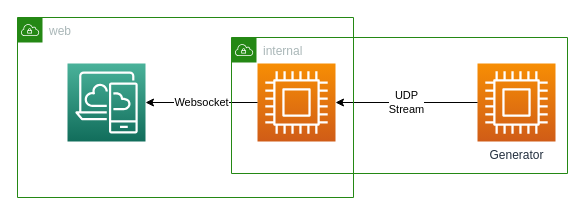
This 585x215 diagram has some shape labels left out. Each missing label, with the centre of its shape:
"Backend" belongs at (296,102).
"Frontend" belongs at (106,102).
